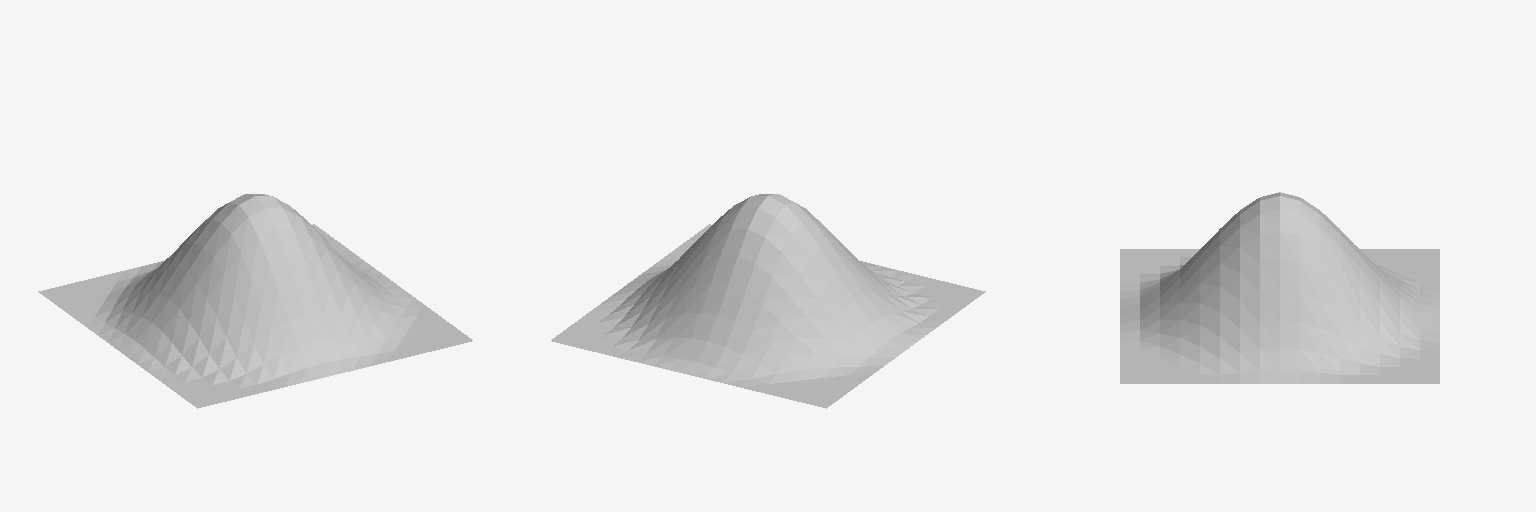
The model's file is mound.obj.
The picture shows the model from 3 angles: view 1: azimuth 30°, elevation 25°; view 2: azimuth 150°, elevation 25°; view 3: azimuth 270°, elevation 25°; orthographic projection.
Parts seen in each view (by area): view 1: Plane; view 2: Plane; view 3: Plane.
Part boxes in pixels (x1,y1,x2,y2): Plane: (38,194,472,408); Plane: (551,194,985,408); Plane: (1120,192,1439,383).
Size of the model in its own units: 2 by 0.834 by 2.